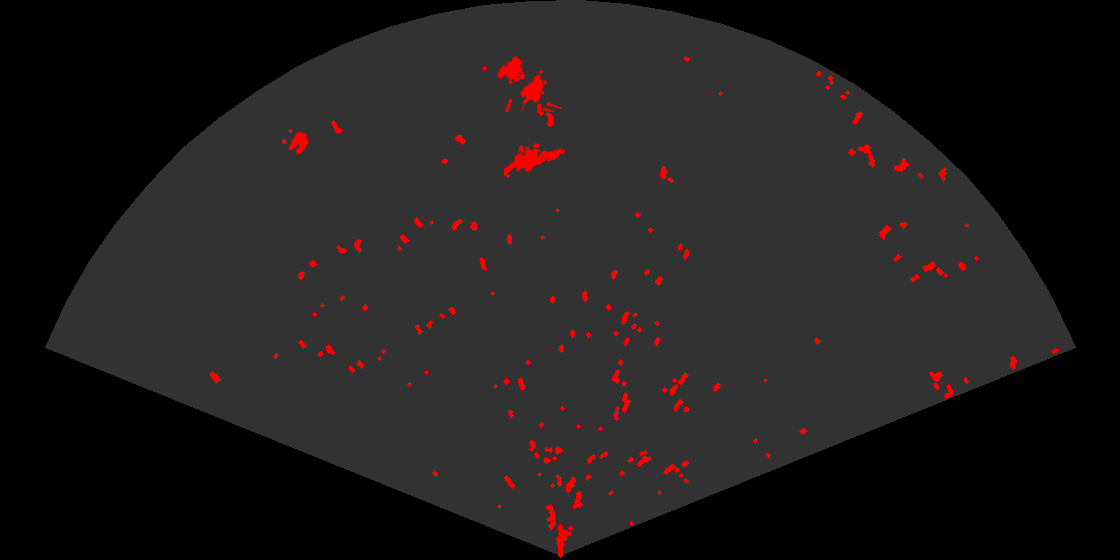ball: (280, 127, 311, 156)
cage: (495, 55, 562, 112)
frogman: (504, 145, 567, 177)
